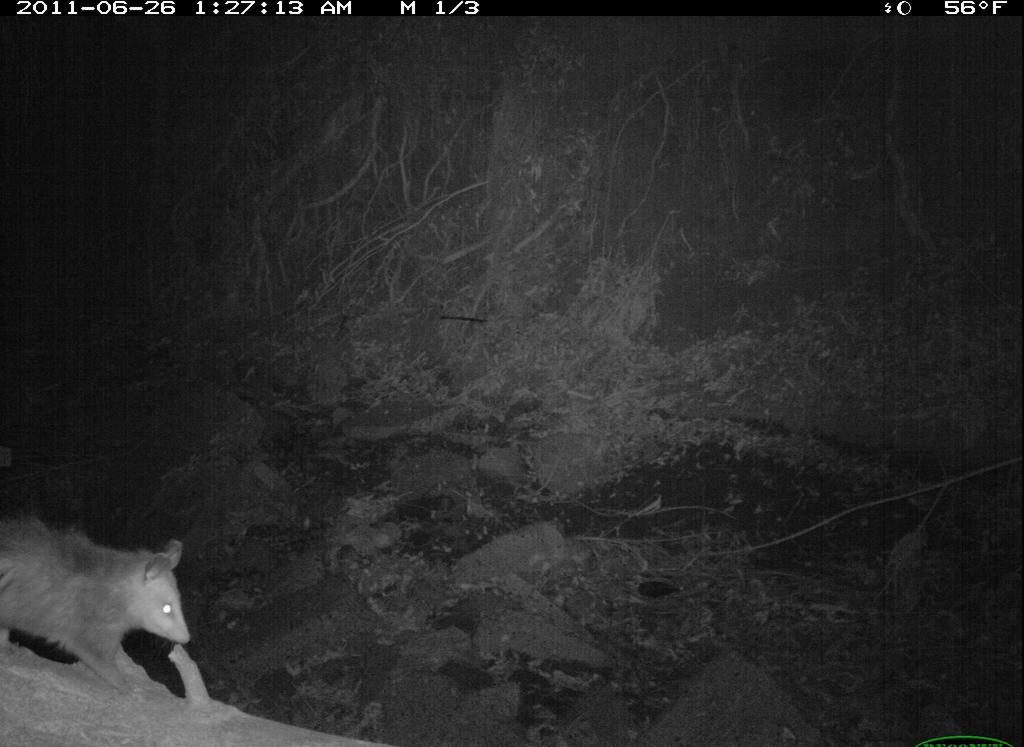opossum: (3, 500, 207, 717)
